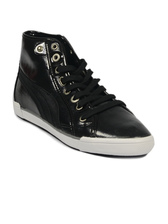shoes: (8, 26, 156, 160)
